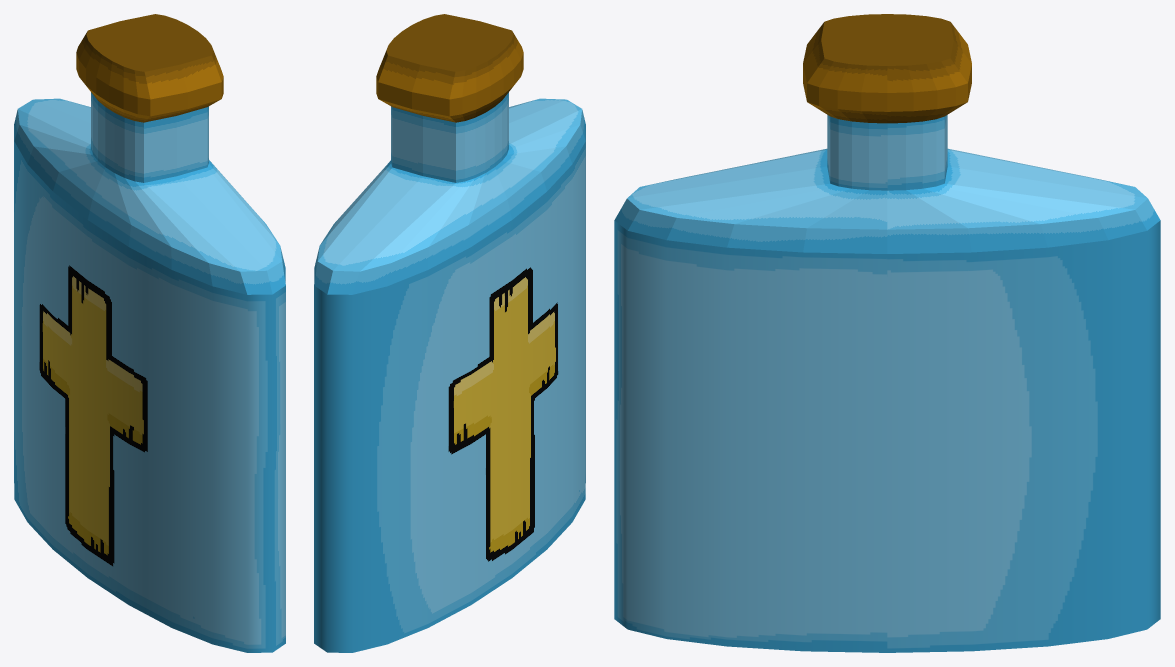
File: holywater.fbx
3 renders of one model, left to right at view 1: azimuth 30°, elevation 25°; view 2: azimuth 150°, elevation 25°; view 3: azimuth 270°, elevation 25°, orthographic. The views are drawn at different scales.
Visible parts, largest first — view 1: pCylinder1; view 2: pCylinder1; view 3: pCylinder1.
Boxes of the visible parts, x1=… form: pCylinder1: x1=14, y1=14, x2=285, y2=652; pCylinder1: x1=314, y1=14, x2=585, y2=652; pCylinder1: x1=614, y1=14, x2=1160, y2=652.
Bounding box in the file's own units: 2 × 7.98 × 6.82.
